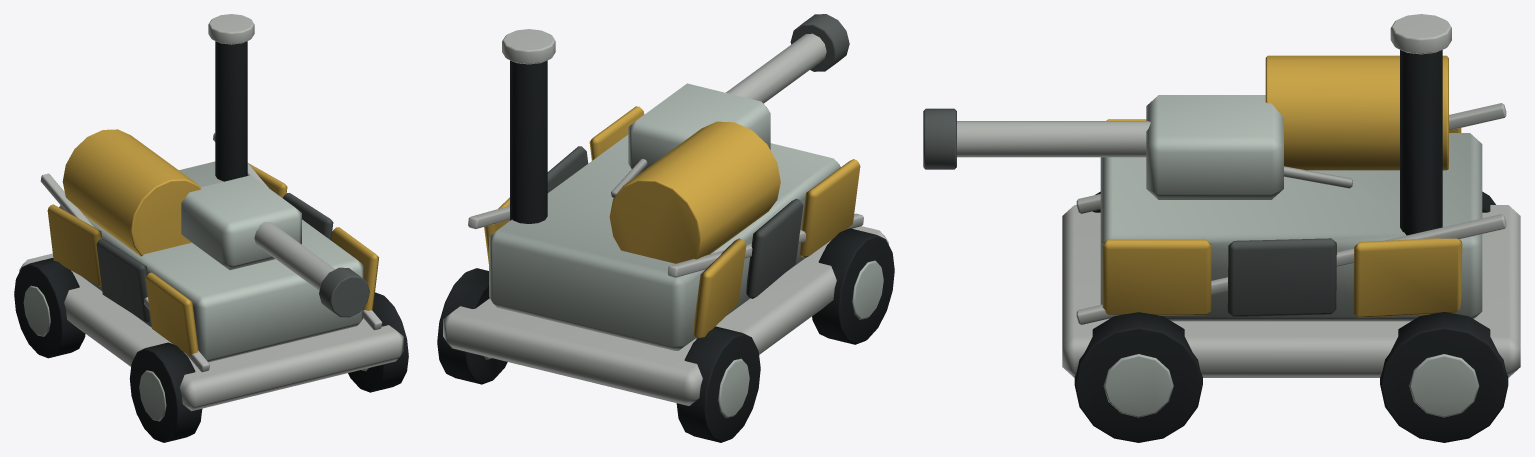
The model's file is scorcher.glb.
3 views of the same model, side by side, from view 1: azimuth 30°, elevation 25°; view 2: azimuth 150°, elevation 25°; view 3: azimuth 270°, elevation 25° (orthographic). The views are drawn at different scales.
Parts seen in each view (by area): view 1: Patch_hull, Chassis, Fuel_drum, Wheels, Turret_head, Mismatched_plates, Tall_stack, Mismatched_plates.001, Barrel_flame, Wheel_hubs, Muzzle_cage, External_frame (+1 smaller); view 2: Patch_hull, Chassis, Fuel_drum, Wheels, Mismatched_plates, Turret_head, Tall_stack, Mismatched_plates.001, Barrel_flame, Wheel_hubs, Muzzle_cage, External_frame (+1 smaller); view 3: Patch_hull, Chassis, Wheels, Mismatched_plates, Fuel_drum, Turret_head, Mismatched_plates.001, Tall_stack, Barrel_flame, Wheel_hubs, External_frame, Muzzle_cage (+2 smaller).
Boxes of the visible parts, x1,y1,x2,y2 form: Patch_hull: (59,161,364,362); Chassis: (19,253,403,411); Fuel_drum: (62,129,201,256); Wheels: (14,258,408,442); Turret_head: (181,175,301,269); Mismatched_plates: (47,163,378,356); Tall_stack: (215,41,247,181); Mismatched_plates.001: (96,193,333,322); Barrel_flame: (254,221,335,290); Wheel_hubs: (23,285,368,421); Muzzle_cage: (319,267,369,317); External_frame: (40,133,382,372); Patch_hull: (489,135,840,350); Chassis: (443,226,888,405); Fuel_drum: (609,121,780,263); Wheels: (437,228,894,442); Mismatched_plates: (484,106,860,338); Turret_head: (628,83,770,172); Tall_stack: (510,60,547,223); Mismatched_plates.001: (547,146,803,298); Barrel_flame: (726,33,826,103); Wheel_hubs: (483,260,883,417); Muzzle_cage: (790,14,849,71); External_frame: (468,206,863,277); Patch_hull: (1100,133,1482,321); Chassis: (1062,205,1520,377); Wheels: (1074,191,1508,442); Mismatched_plates: (1102,119,1462,317); Fuel_drum: (1265,55,1448,170); Turret_head: (1146,95,1283,199); Mismatched_plates.001: (1227,238,1336,316); Tall_stack: (1400,50,1442,235); Barrel_flame: (957,121,1150,157); Wheel_hubs: (1103,354,1479,417); External_frame: (1076,103,1506,324); Muzzle_cage: (923,108,956,169).
Size of the model in its own units: 2.35 by 2.8 by 3.91.
